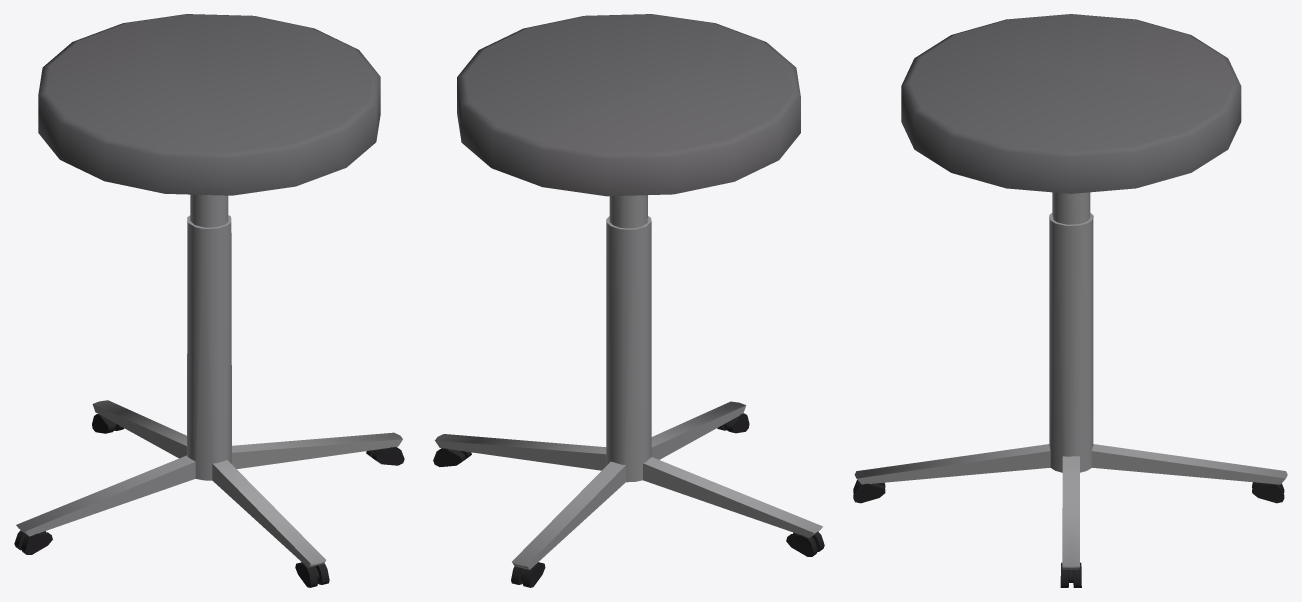
The model's file is labChair.fbx.
The picture shows the model from 3 angles, left to right: view 1: azimuth 30°, elevation 25°; view 2: azimuth 150°, elevation 25°; view 3: azimuth 270°, elevation 25°; orthographic projection. The views are drawn at different scales.
Parts seen in each view (by area): view 1: chair; view 2: chair; view 3: chair.
Part boxes in pixels (left/top/right/bottom): chair: left=14, top=14, right=404, bottom=587; chair: left=433, top=14, right=824, bottom=587; chair: left=853, top=14, right=1287, bottom=587.
Bounding box in the file's own units: 2834 × 3004 × 2844.
